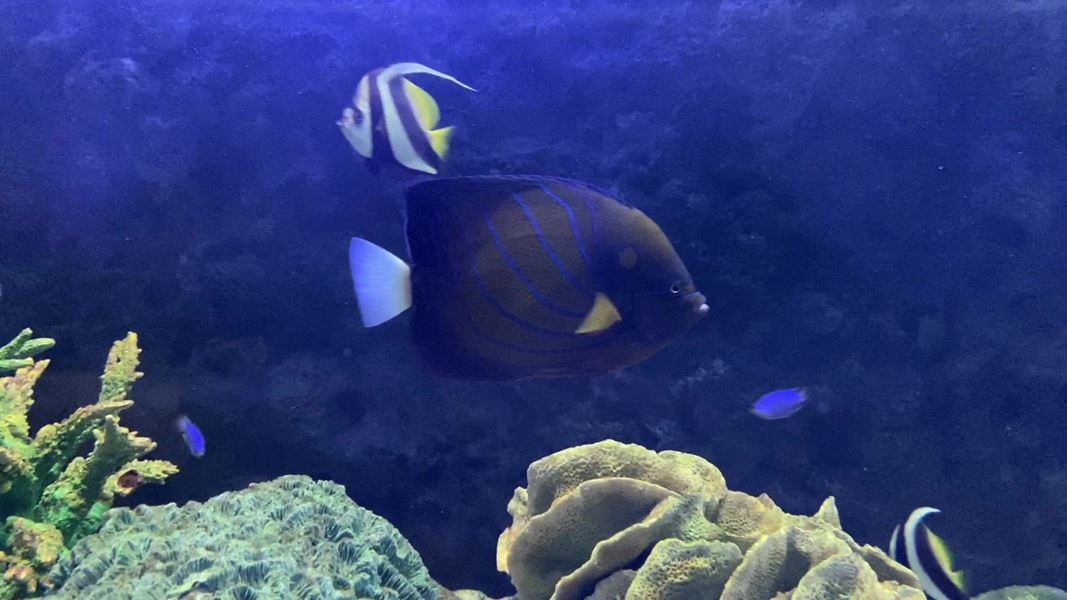Blue ring angelfish: (343, 162, 733, 407)
